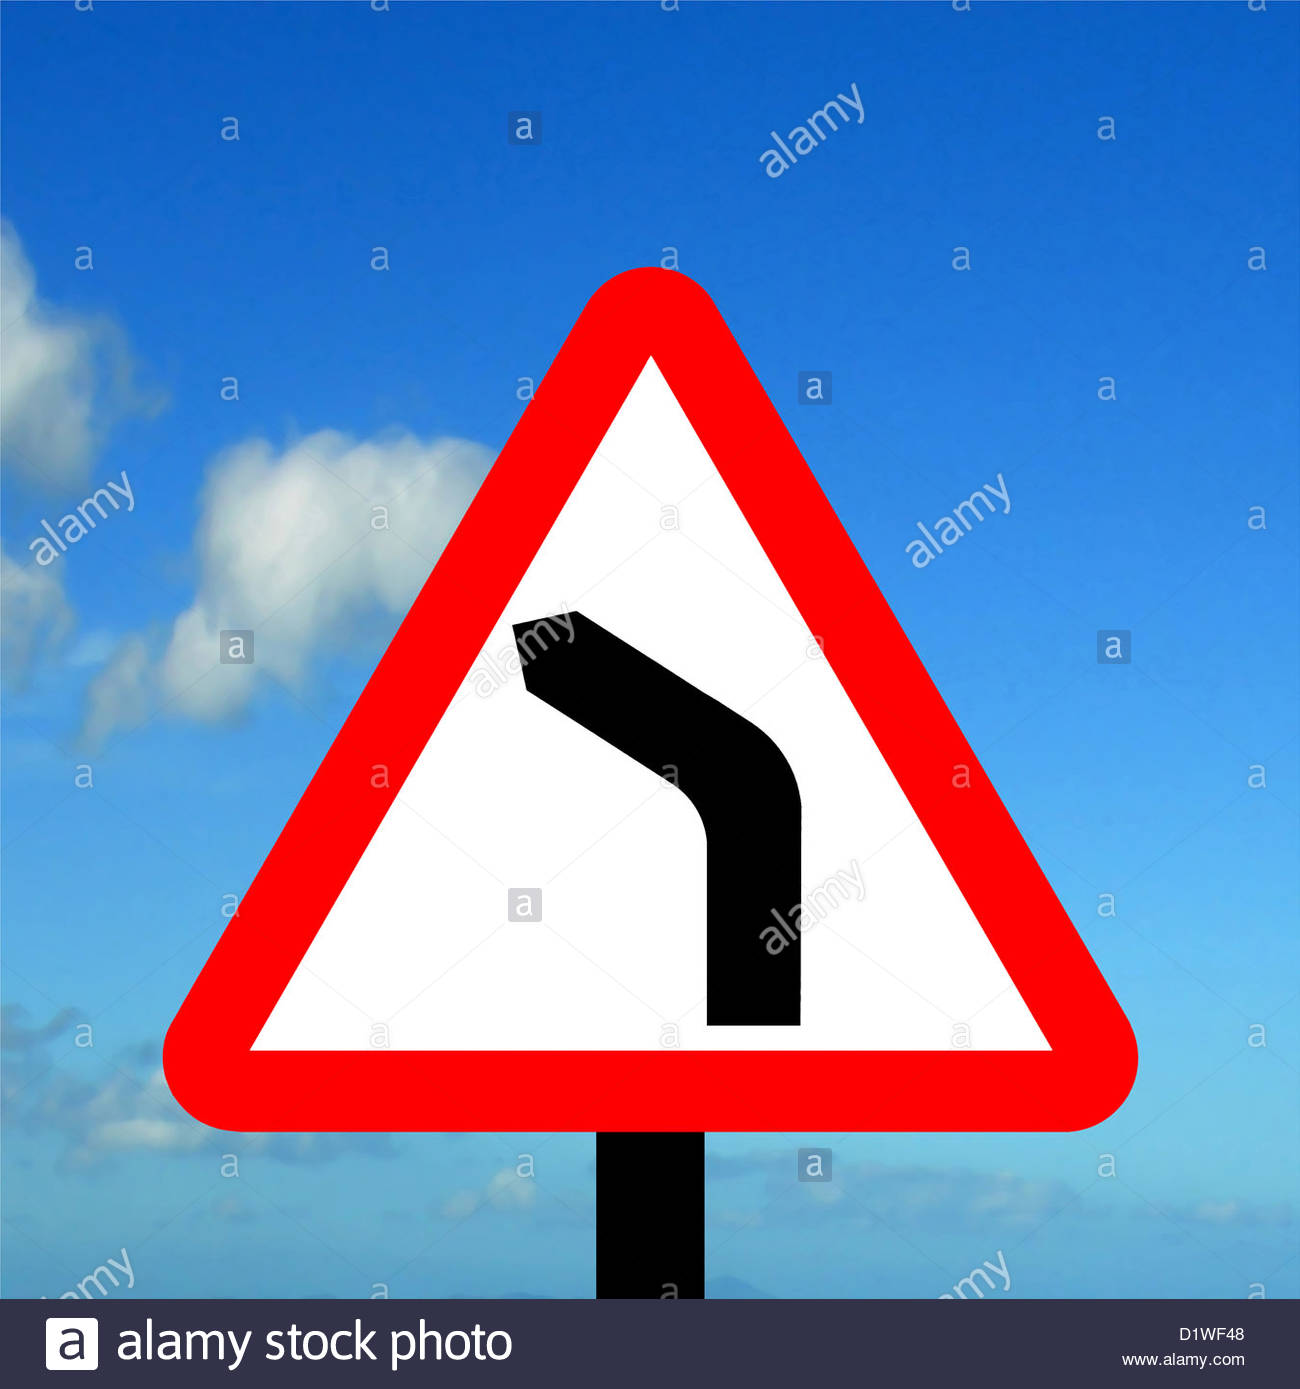Bend_to_left: (159, 264, 1142, 1141)
